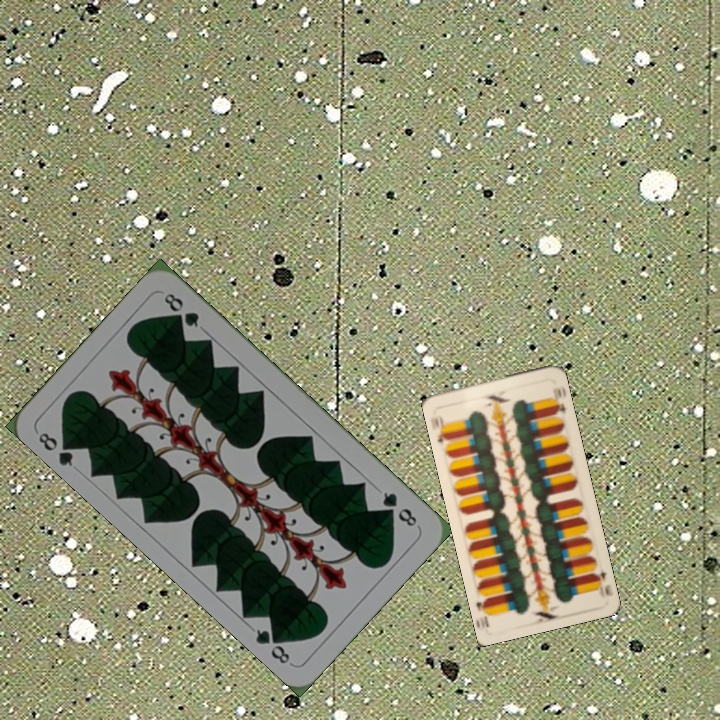E10: (588, 560, 614, 599), (431, 411, 453, 446)
G8: (34, 428, 79, 470), (378, 487, 420, 530)
